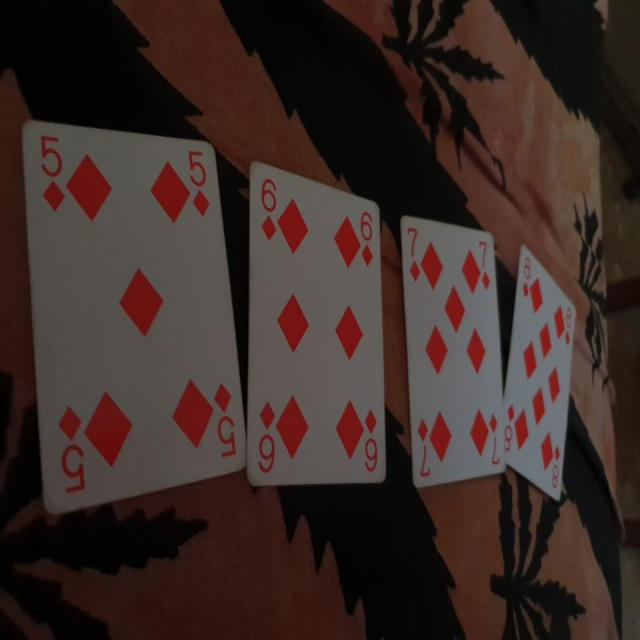5 Diamonds: (20, 117, 250, 520)
6 Diamonds: (246, 162, 386, 492)
7 Diamonds: (398, 212, 508, 490)
8 Diamonds: (504, 244, 580, 504)
